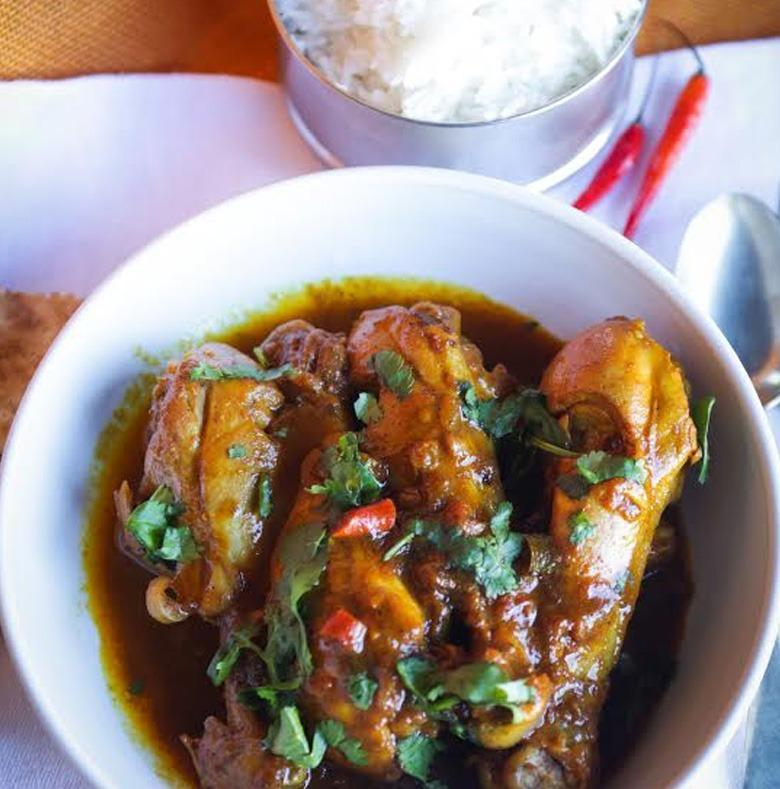chicken: (98, 325, 700, 789)
rice: (300, 13, 594, 111)
